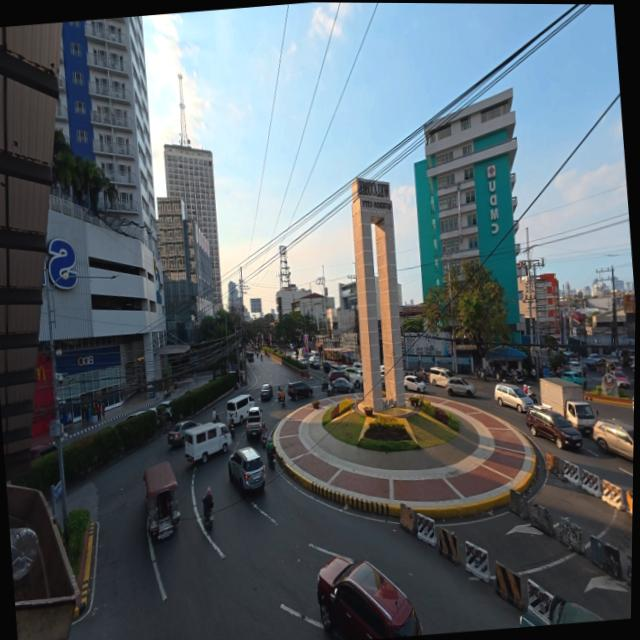Jeepneys: (137, 461, 182, 543)
car: (311, 546, 421, 640), (526, 401, 587, 451), (226, 444, 268, 494), (491, 383, 532, 414), (444, 374, 475, 399), (631, 390, 634, 415)
trucks: (535, 365, 596, 439)
